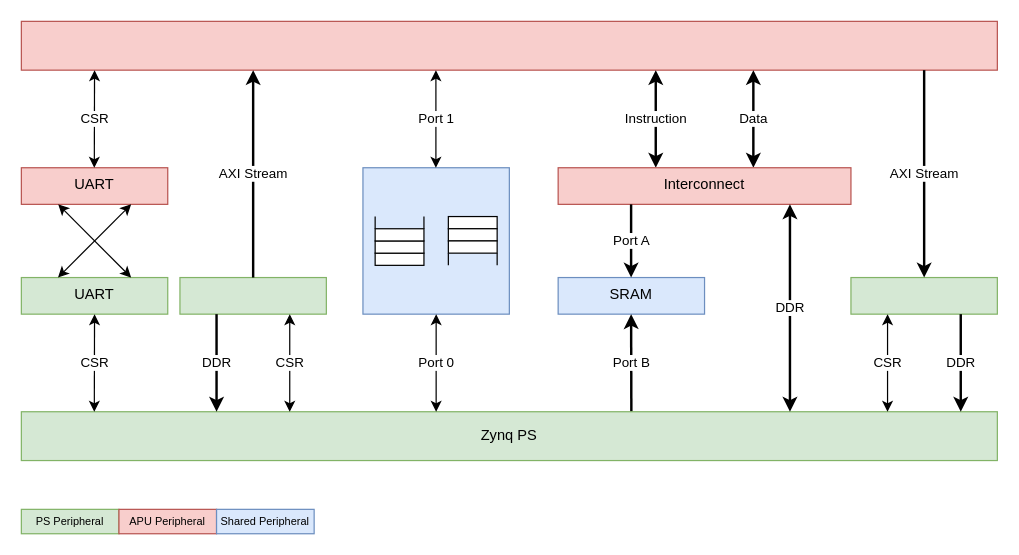
This 1019x555 diagram has some shape labels left out. Here are the shapes that lost their labels. From the top down, the centre of each, then its label:
At [508,45]: "Microblaze APU".
At [435,240]: "Mailbox".
At [252,295]: "Tx DMA".
At [923,295]: "Rx DMA".
